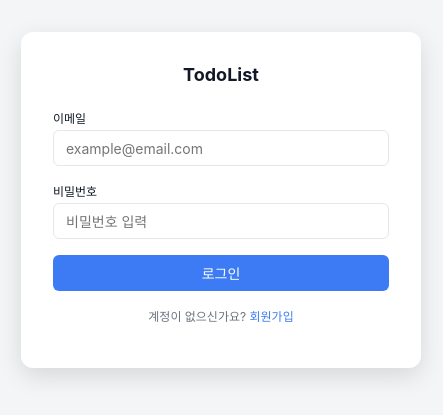
Scenario: @ 없는 이메일 제출 시 유효성 오류
Step 1. Type "invalidemail" into the field labelled "이메일" → (221, 148), box [53,130,389,166]
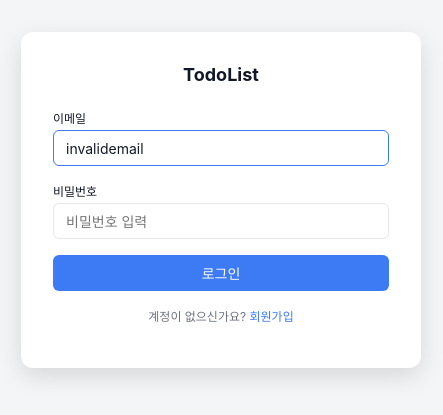
Step 2. Click the button "로그인" → (221, 273), box [53,255,389,291]
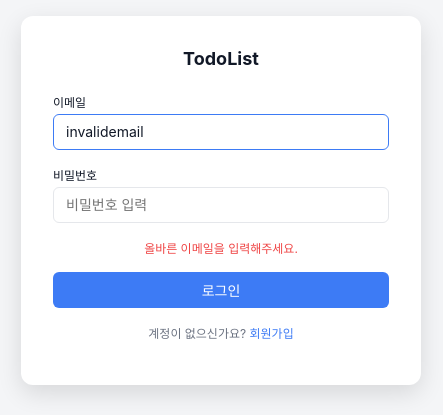
Now the text "올바른 이메일을 입력해주세요." is shown, box [144,240,298,256]
